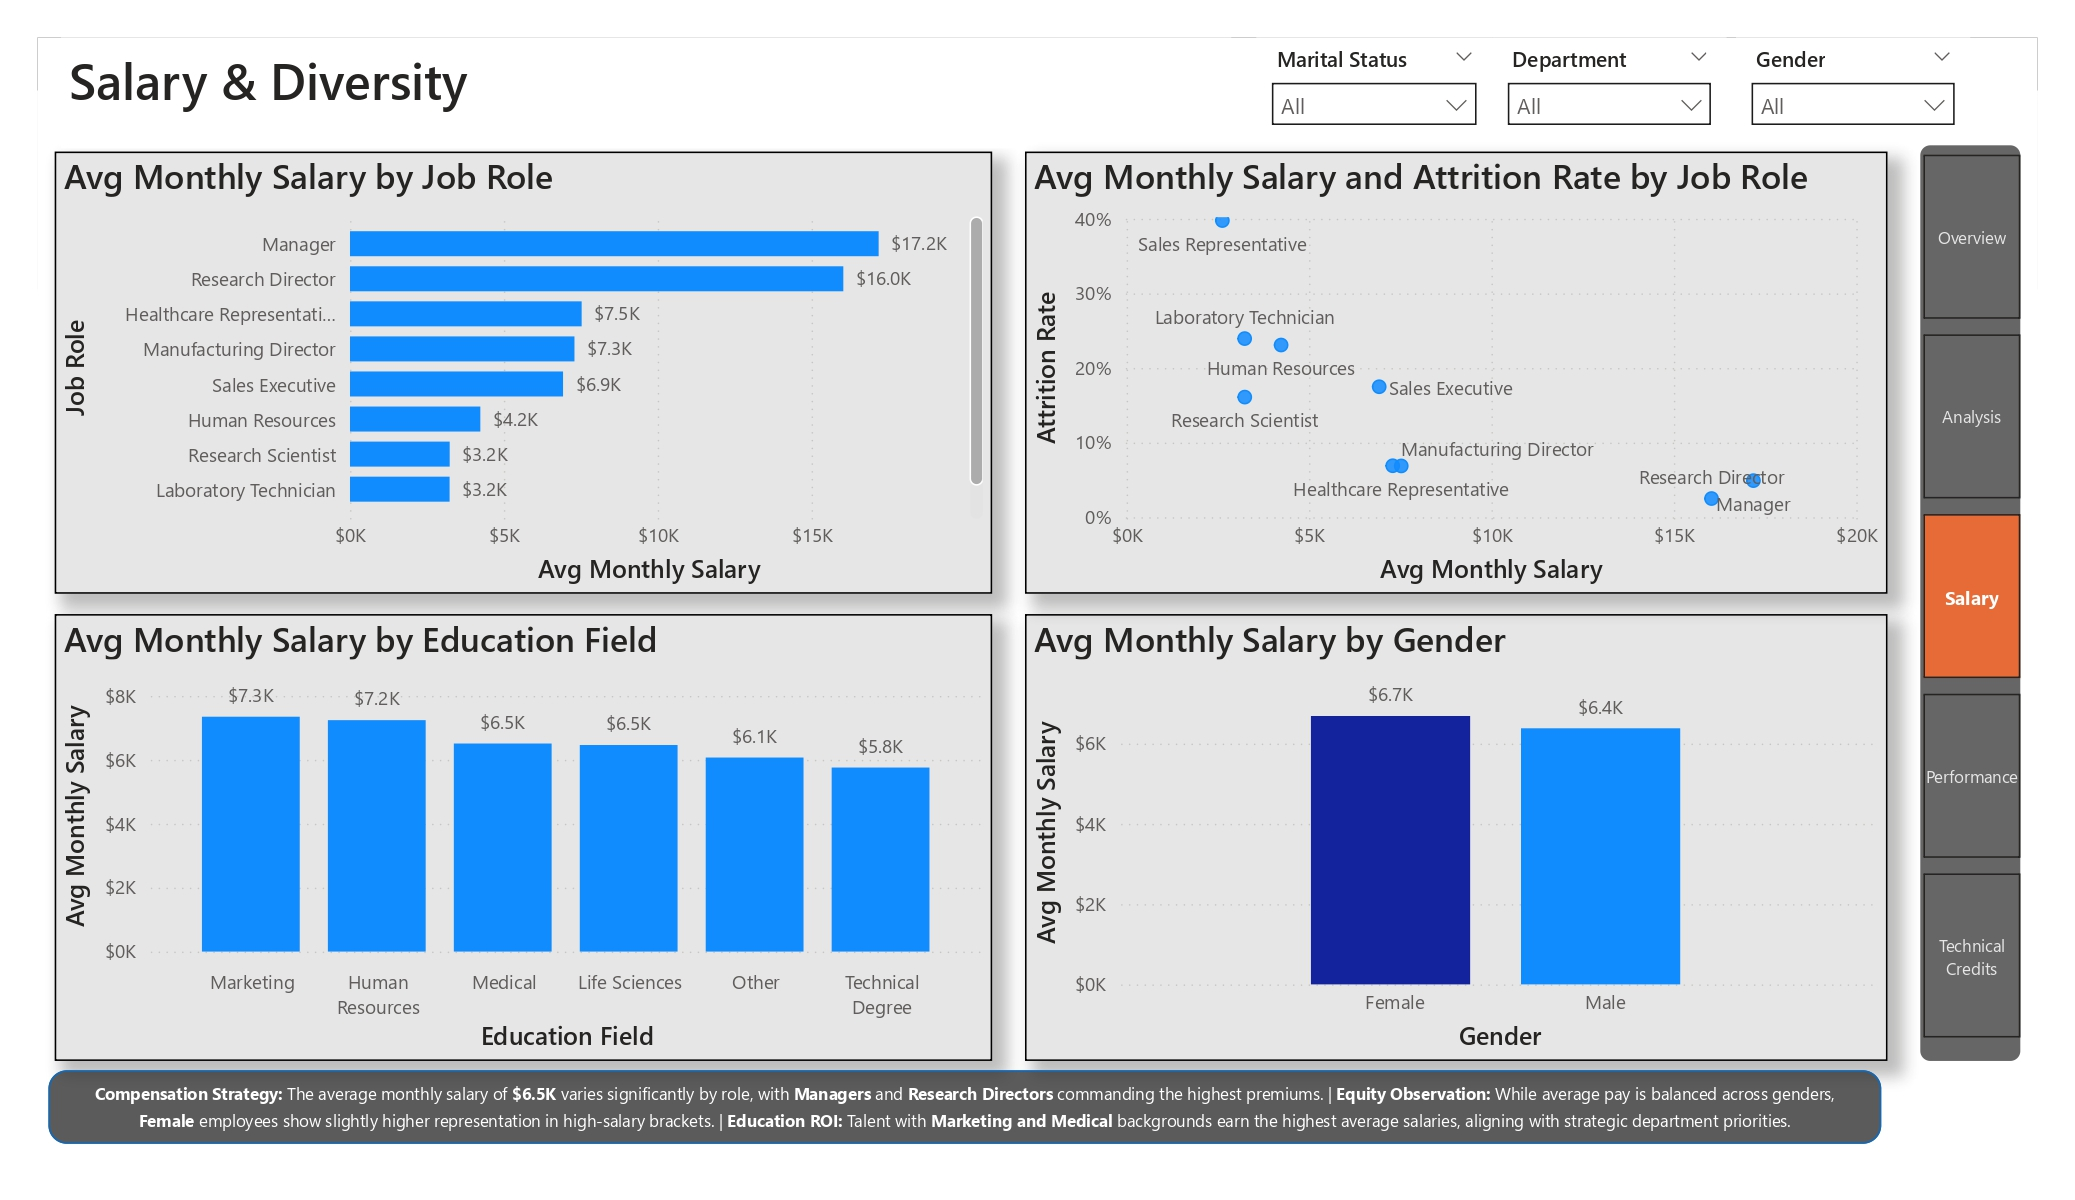

This screenshot's page, from the dashboard's own definition file:
{"tool":"powerbi","page":{"name":"Salary","canvas":[1280,720],"ordinal":2},"visuals":[{"type":"clusteredBarChart","fields":{"Category":["HR.Job Role"],"Y":["HR.Avg Monthly Salary"]},"box":[10.7,72.9,600.3,283],"z":0},{"type":"clusteredColumnChart","fields":{"Category":["HR.Gender"],"Y":["HR.Avg Monthly Salary"]},"box":[632.5,369.4,551,285.2],"z":1000},{"type":"slicer","fields":{"Values":["HR.Department"]},"box":[930.5,0,150.1,70.8],"z":2000},{"type":"slicer","fields":{"Values":["HR.Gender"]},"box":[1087,0,150.1,70.8],"z":3000},{"type":"slicer","fields":{"Values":["HR.Marital Status"]},"box":[780.4,0,150.1,68.6],"z":4000},{"type":"textbox","box":[14.5,0,749.1,70.9],"z":5000},{"type":"scatterChart","fields":{"Category":["HR.Job Role"],"X":["HR.Avg Monthly Salary"],"Y":["HR.Attrition Rate"]},"box":[632.2,72.9,551.5,283],"z":6000},{"type":"clusteredColumnChart","fields":{"Category":["HR.Education Field"],"Y":["HR.Avg Monthly Salary"]},"box":[10.7,369.4,600.3,285.2],"z":7000},{"type":"shape","box":[1205.1,69.1,64.2,585.5],"z":8000},{"type":"pageNavigator","box":[1207.1,74.9,62.2,569],"z":9000},{"type":"shape","box":[6.8,661.4,1173,46.7],"z":10000},{"type":"textbox","box":[13.6,661.4,1159.4,46.7],"z":11000}]}

Visuals, with their boxes in screenshot pixels (x1, y1, x2, y2):
clusteredBarChart - HR.Job Role x HR.Avg Monthly Salary: crop(54, 151, 992, 594)
clusteredColumnChart - HR.Gender x HR.Avg Monthly Salary: crop(1026, 615, 1887, 1060)
slicer - HR.Department: crop(1491, 38, 1726, 148)
slicer - HR.Gender: crop(1736, 38, 1970, 148)
slicer - HR.Marital Status: crop(1257, 38, 1491, 145)
textbox: crop(60, 38, 1231, 148)
scatterChart - HR.Job Role x HR.Avg Monthly Salary: crop(1025, 151, 1887, 594)
clusteredColumnChart - HR.Education Field x HR.Avg Monthly Salary: crop(54, 615, 992, 1060)
shape: crop(1920, 145, 2021, 1060)
pageNavigator: crop(1924, 155, 2021, 1044)
shape: crop(48, 1071, 1881, 1144)
textbox: crop(59, 1071, 1870, 1144)
